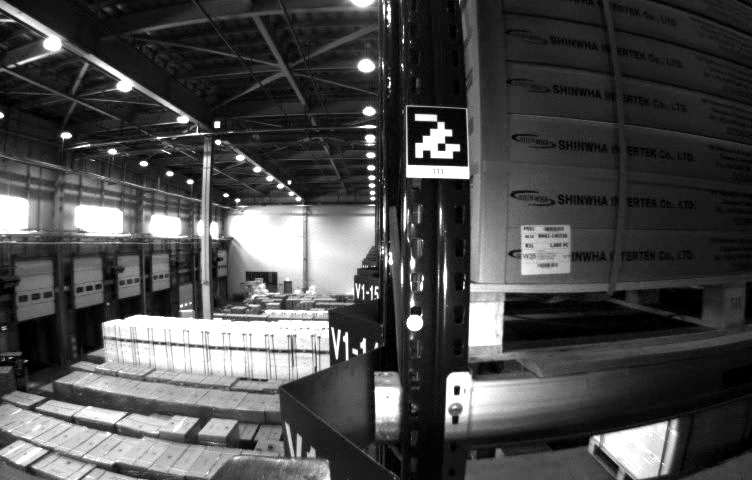True Barcode: (520, 222, 571, 273)
